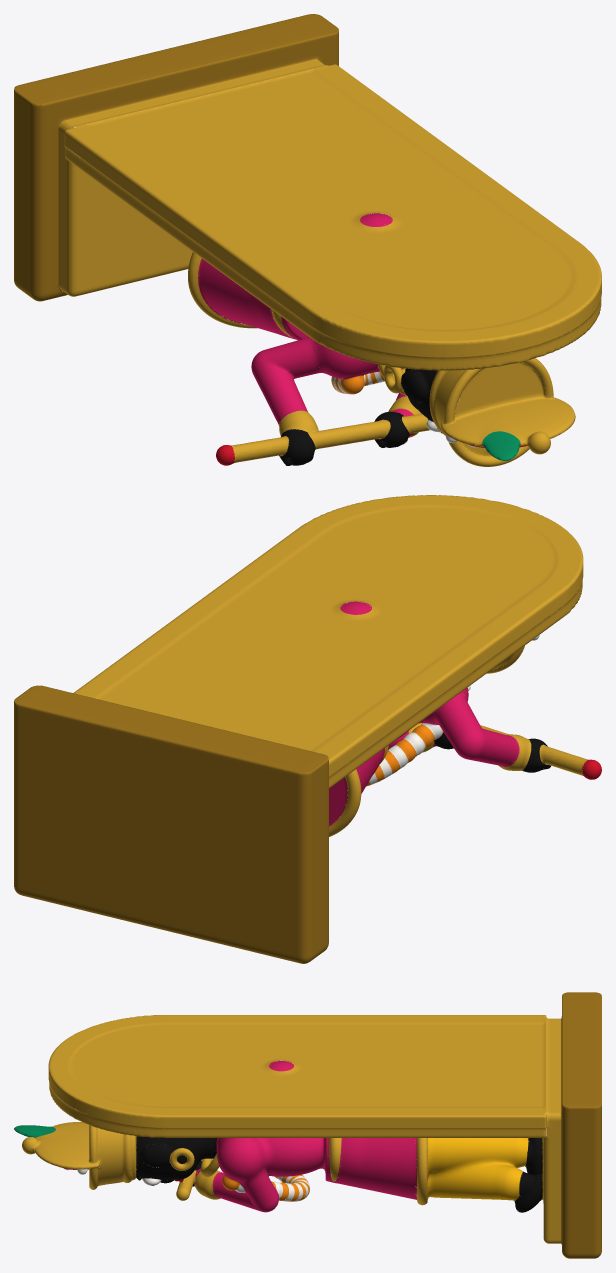
Rendered from gopinathji.glb.
3 views of the same model, one above another, from view 1: azimuth 30°, elevation 25°; view 2: azimuth 150°, elevation 25°; view 3: azimuth 270°, elevation 25° (orthographic). The views are drawn at different scales.
Visible parts, largest first — view 1: gold, base, jama, stone, green; view 2: gold, base, jama, white, orange, stone; view 3: gold, base, jama, pitambar, stone, white, orange, green.
Boxes of the visible parts, box(x1,y1,x2,y2) form: gold: box(59, 59, 601, 466); base: box(14, 14, 338, 301); jama: box(198, 213, 414, 437); stone: box(279, 356, 442, 465); green: box(482, 431, 520, 460); gold: box(73, 495, 588, 836); base: box(14, 685, 328, 963); jama: box(329, 601, 519, 826); white: box(369, 635, 539, 784); orange: box(366, 724, 434, 786); stone: box(434, 732, 550, 772); gold: box(22, 1015, 561, 1243); base: box(561, 992, 601, 1258); jama: box(193, 1060, 428, 1212); pitambar: box(131, 1138, 528, 1200); stone: box(136, 1136, 542, 1212); white: box(64, 1168, 309, 1201); orange: box(222, 1168, 309, 1201); green: box(14, 1125, 55, 1137).
Size of the model in its own units: 0.0786 by 0.0425 by 0.1468.
